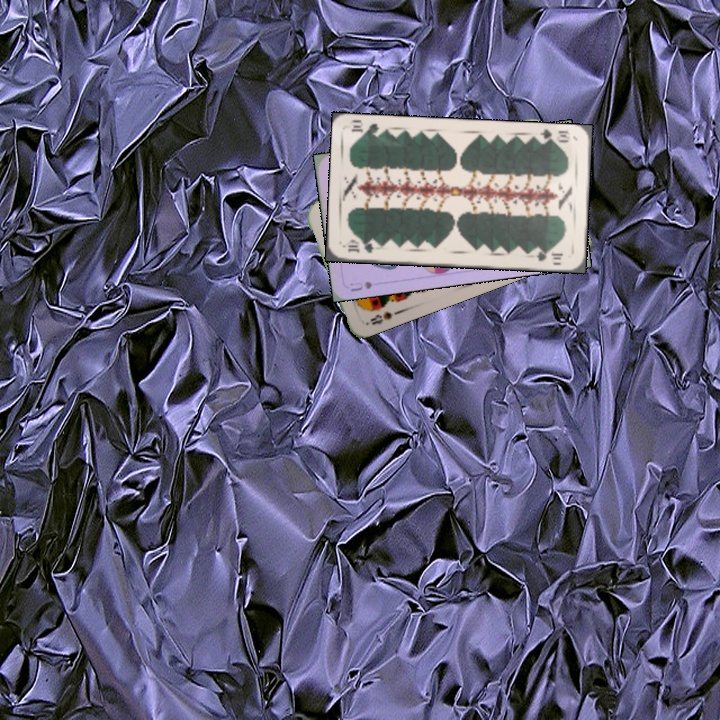G10: (535, 126, 573, 146), (344, 238, 376, 256)
S8: (366, 307, 400, 328)
SU: (346, 277, 374, 294)
